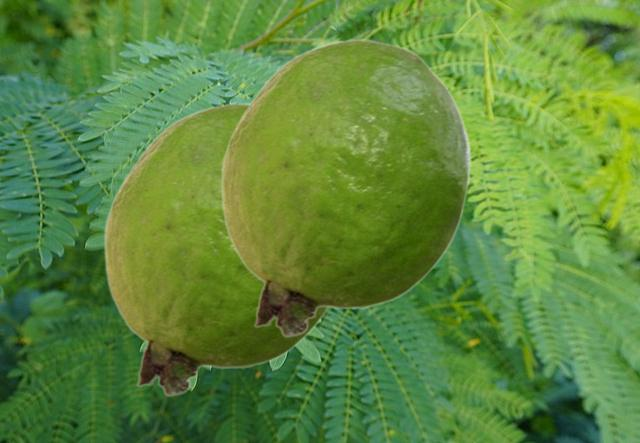guava: (220, 38, 470, 337), (103, 102, 329, 396)
